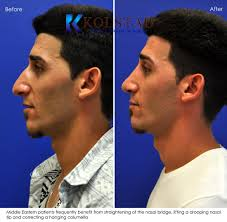middle_eastern_male: (18, 41, 78, 133)
